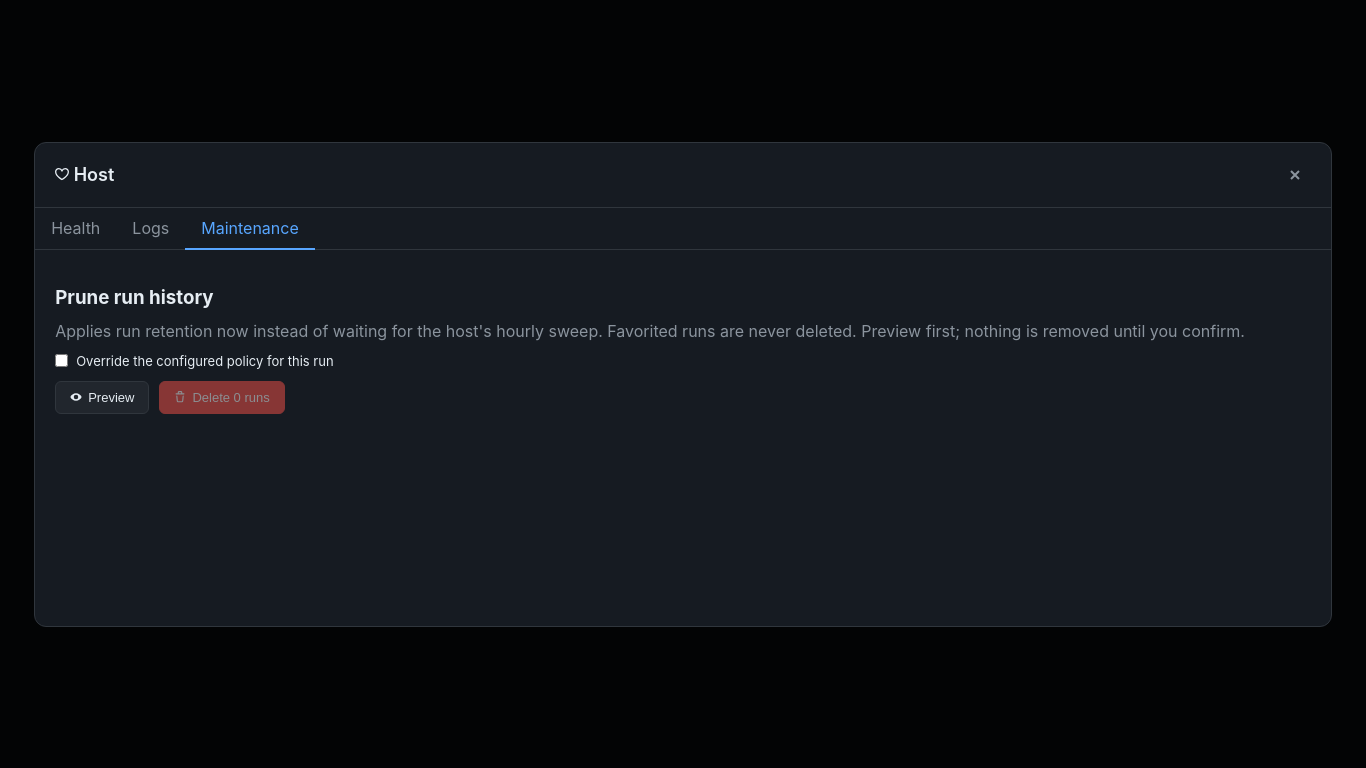
HostModal › maintenance: a 400 from the host (no policy) is shown inline
The width and height of the screenshot is (1366, 768).
Click the button "Preview" at (102, 397), box 55,380 -> 150,414
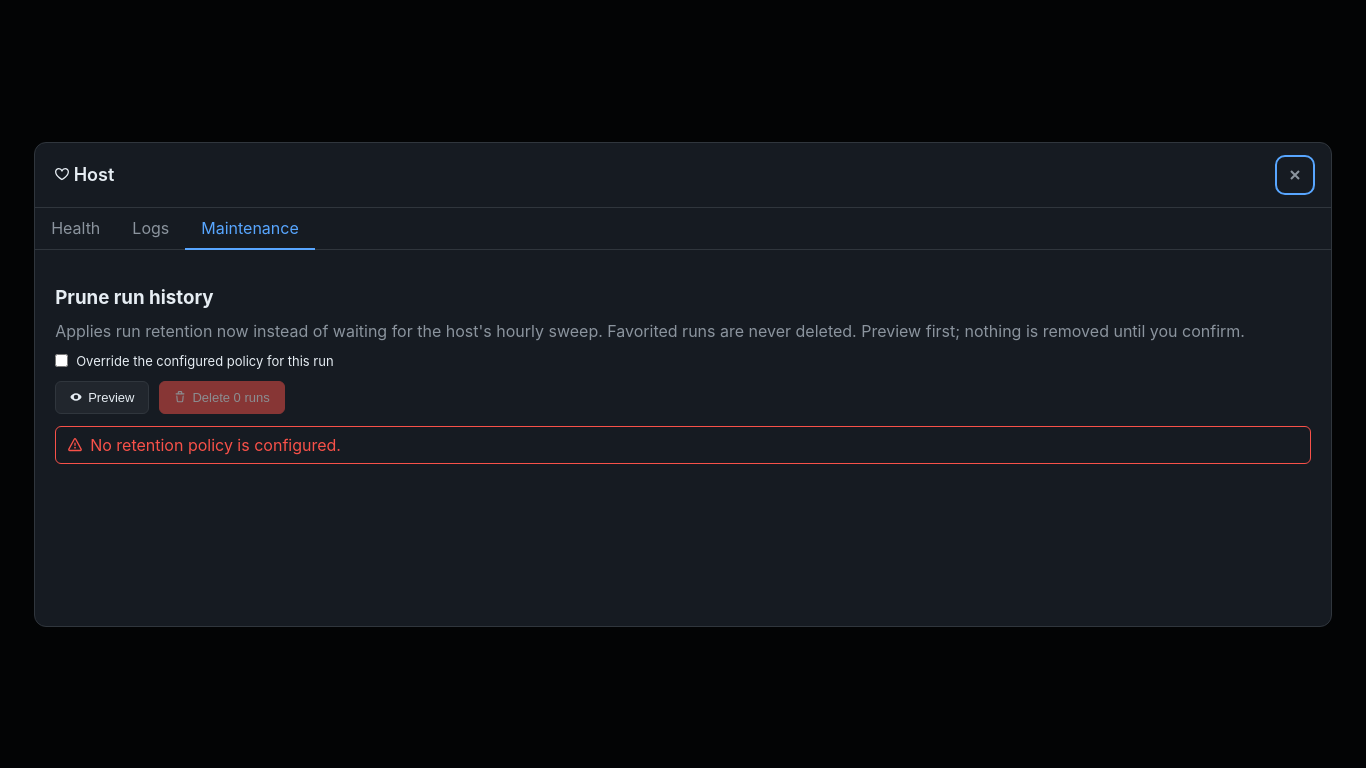
Check: the message reads "No retention policy is configured.", box 90,434 -> 341,454
